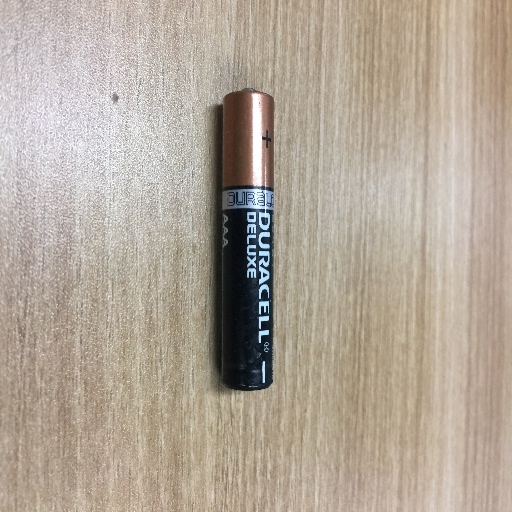Battery_0: (201, 78, 296, 412)
